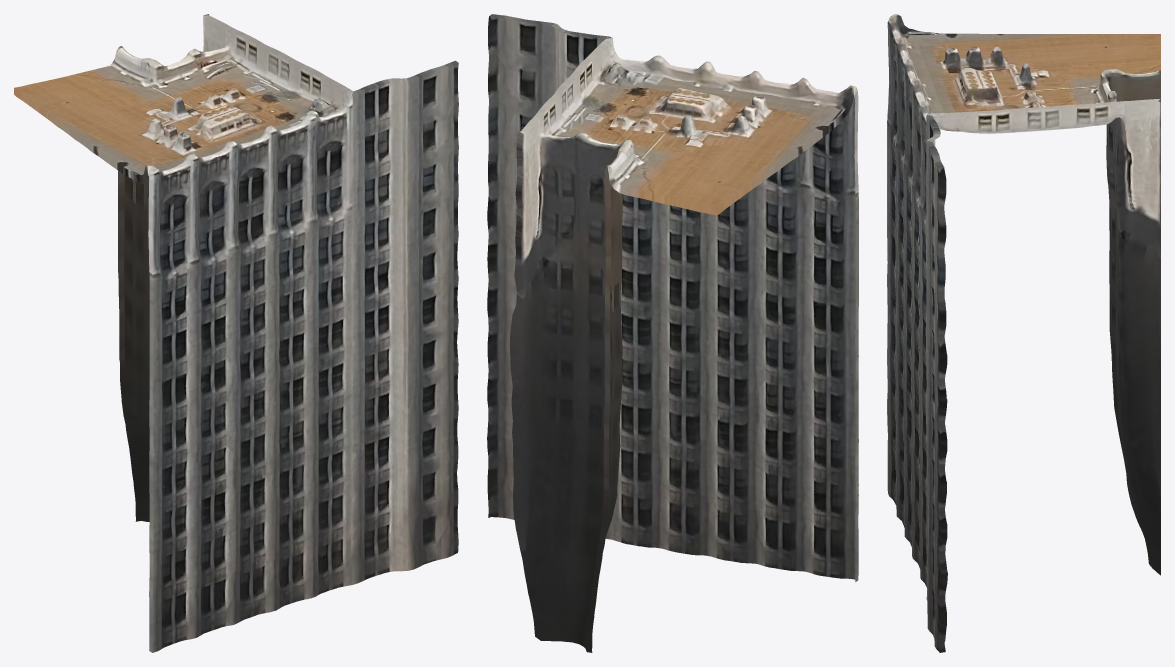
File: z20-167764-405236-h1-yup-uvflip-v3-world.glb
3 renders of one model, left to right at view 1: azimuth 30°, elevation 25°; view 2: azimuth 150°, elevation 25°; view 3: azimuth 270°, elevation 25°, orthographic. The views are drawn at different scales.
Bounding box in the file's own units: 30.16 × 42.56 × 21.8.
Materials: 1 (1 with a texture image).
